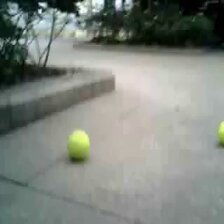tennis: (67, 129, 90, 158)
